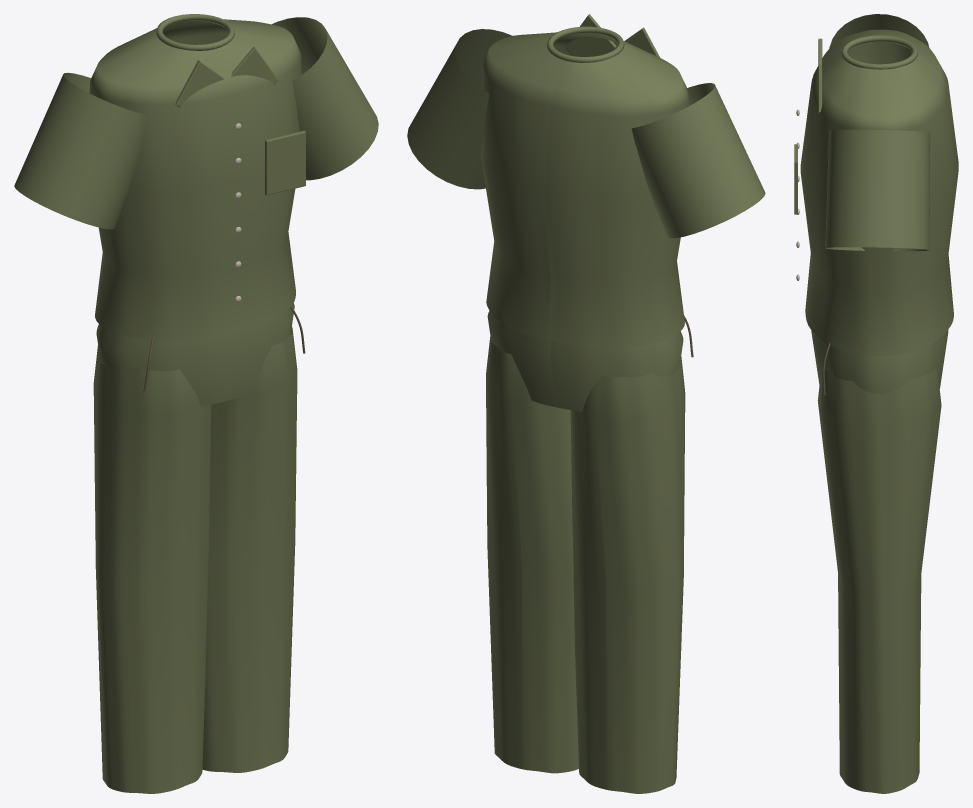
The model's file is ensemble-latitude-femme.glb.
3 renders of one model, left to right at view 1: azimuth 30°, elevation 25°; view 2: azimuth 150°, elevation 25°; view 3: azimuth 270°, elevation 25°, orthographic. The views are drawn at different scales.
Parts seen in each view (by area): view 1: edit-20, short-sleeve (×2); view 2: edit-20, short-sleeve (×2); view 3: edit-20, short-sleeve (×2).
Boxes of the visible parts, box(x1,y1,x2,y2) form: edit-20: box(89, 14, 305, 793); short-sleeve (×2): box(14, 17, 378, 229); edit-20: box(481, 14, 693, 793); short-sleeve (×2): box(407, 29, 765, 238); edit-20: box(794, 29, 958, 793); short-sleeve (×2): box(825, 14, 930, 251).
Bounding box in the file's own units: 0.6966 × 1.41 × 0.2985.
